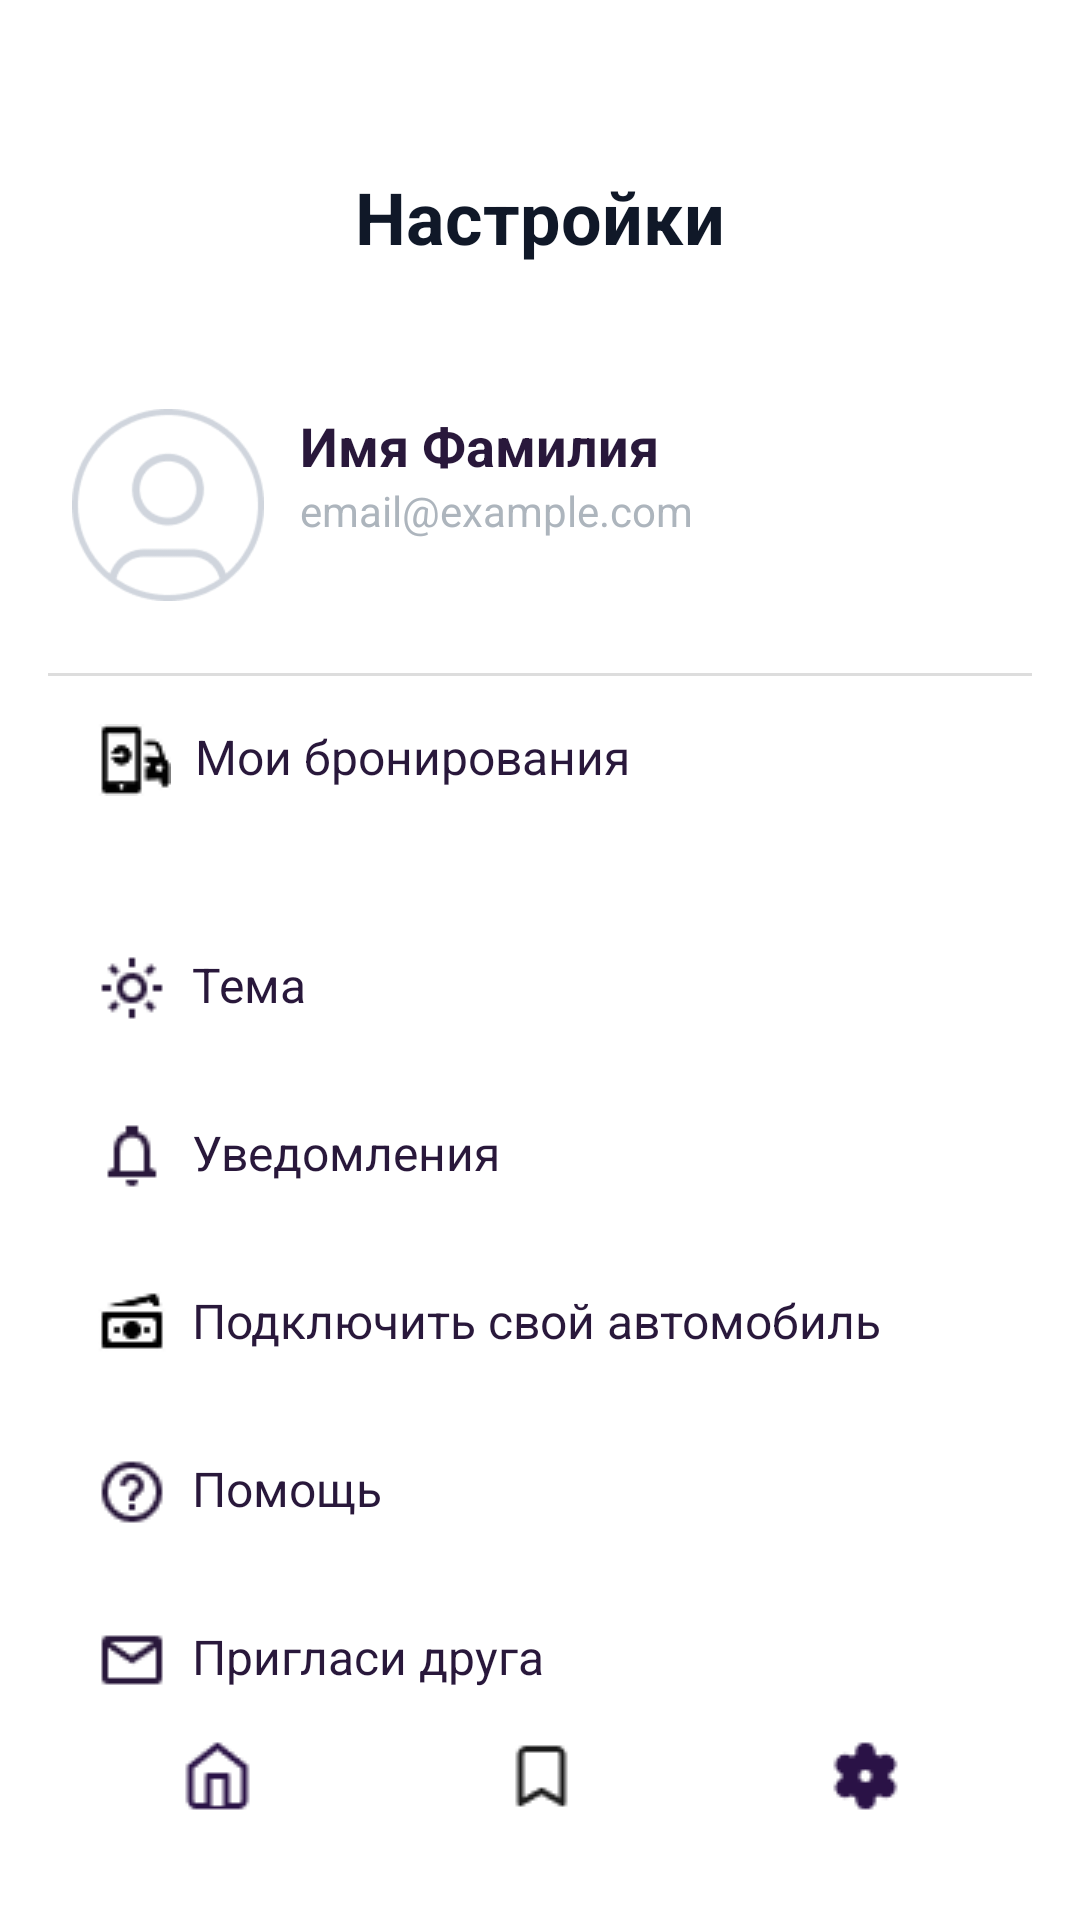

Icons on this 1080w x 1920h Android screen, each with the point to tap as (x,y):
Домой: (217,1776)
Избранное: (541,1776)
Настройки: (865,1776)
